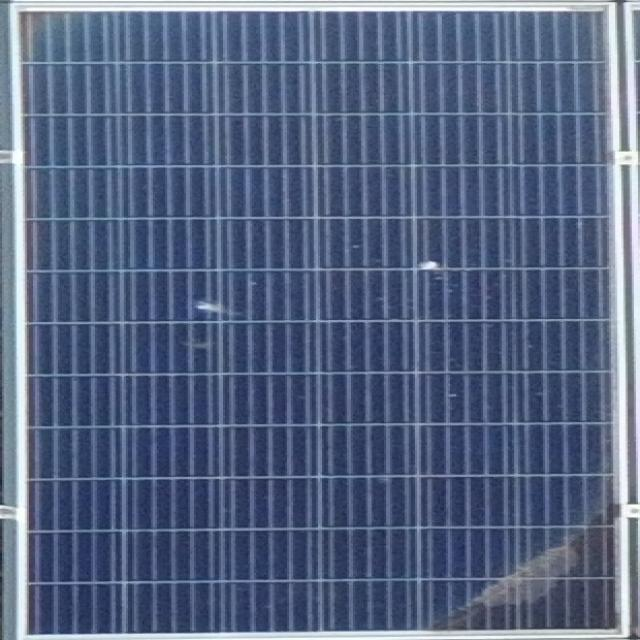Dust: (394, 492, 627, 639)
bird-droppings: (175, 296, 253, 314), (416, 252, 449, 282)
